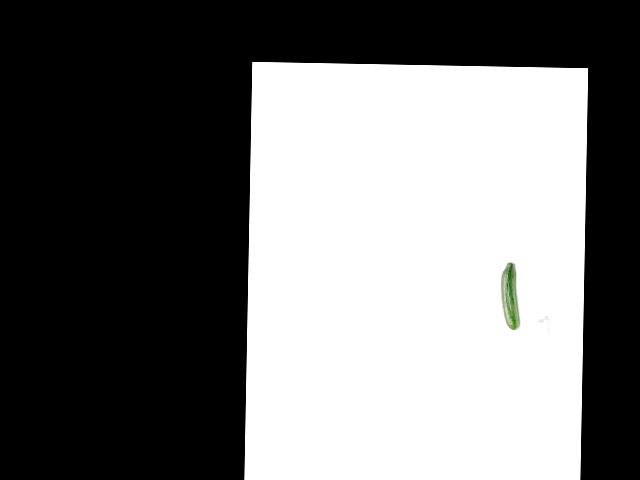cucumber: (500, 262, 520, 330)
